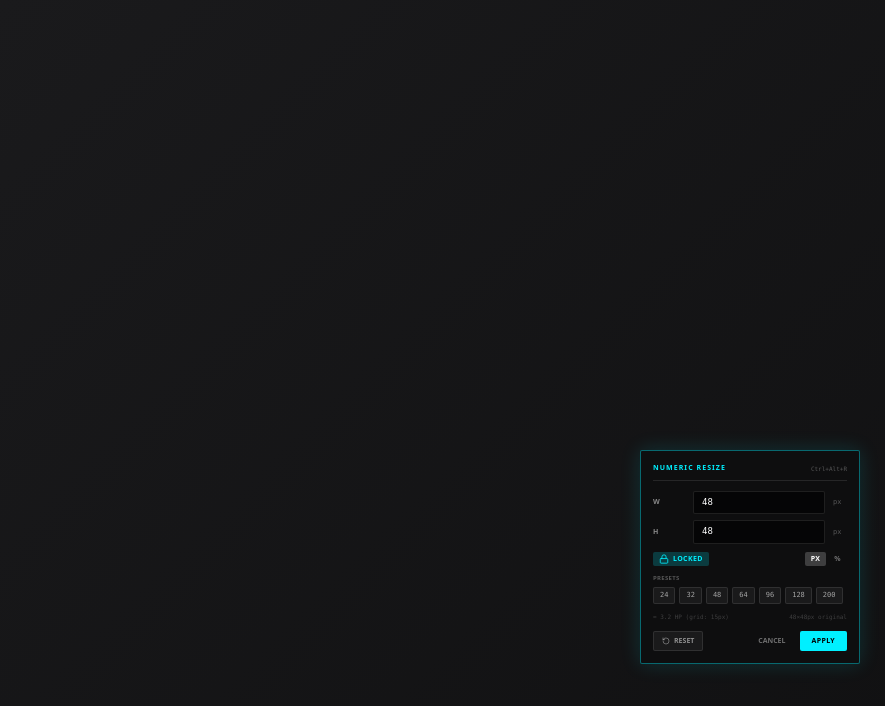
Test: NumericResizePopover — validation › should show error for invalid width input
Note: Wait for useEffect to populate input
Replace the text in the field named "Width in pixels" with "-5" at {"x": 759, "y": 502}, box [693,490,825,514]
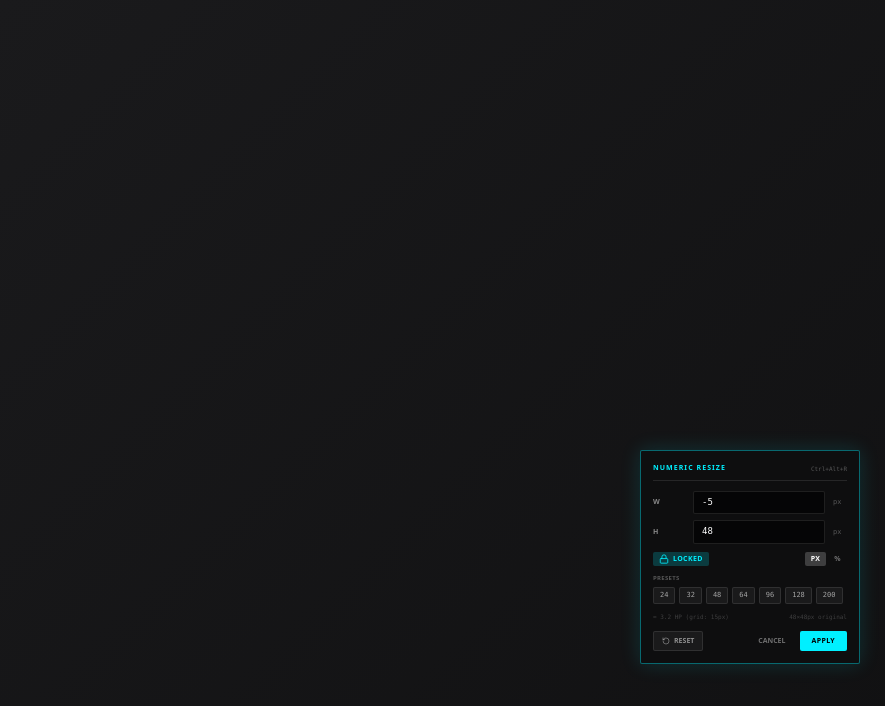
Click the button "Apply" at {"x": 823, "y": 641}, box [800,630,847,651]
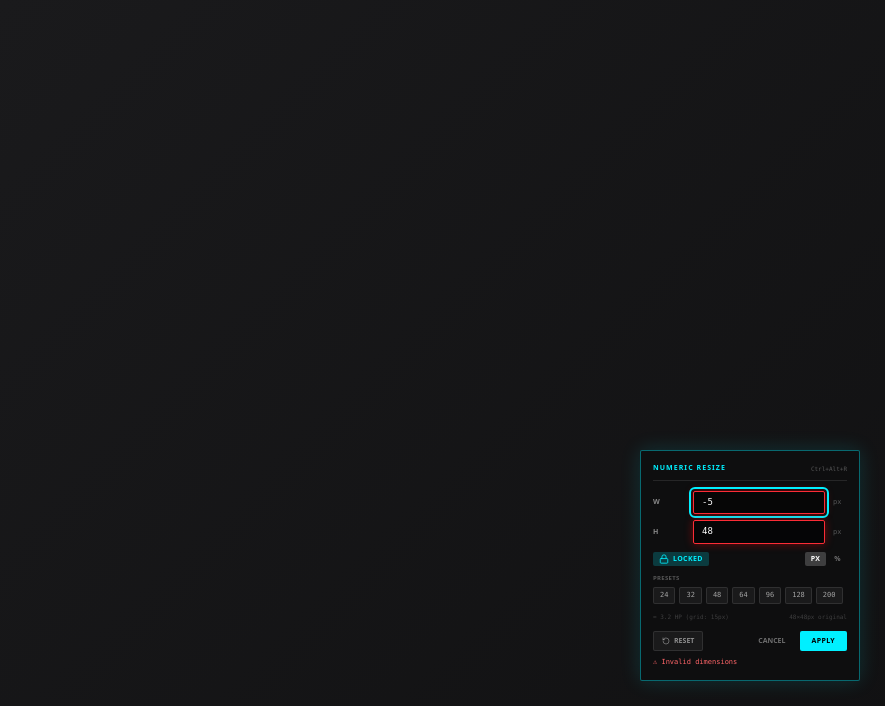
expect the text "⚠ Invalid dimensions" is shown: met, box [653,658,737,666]
